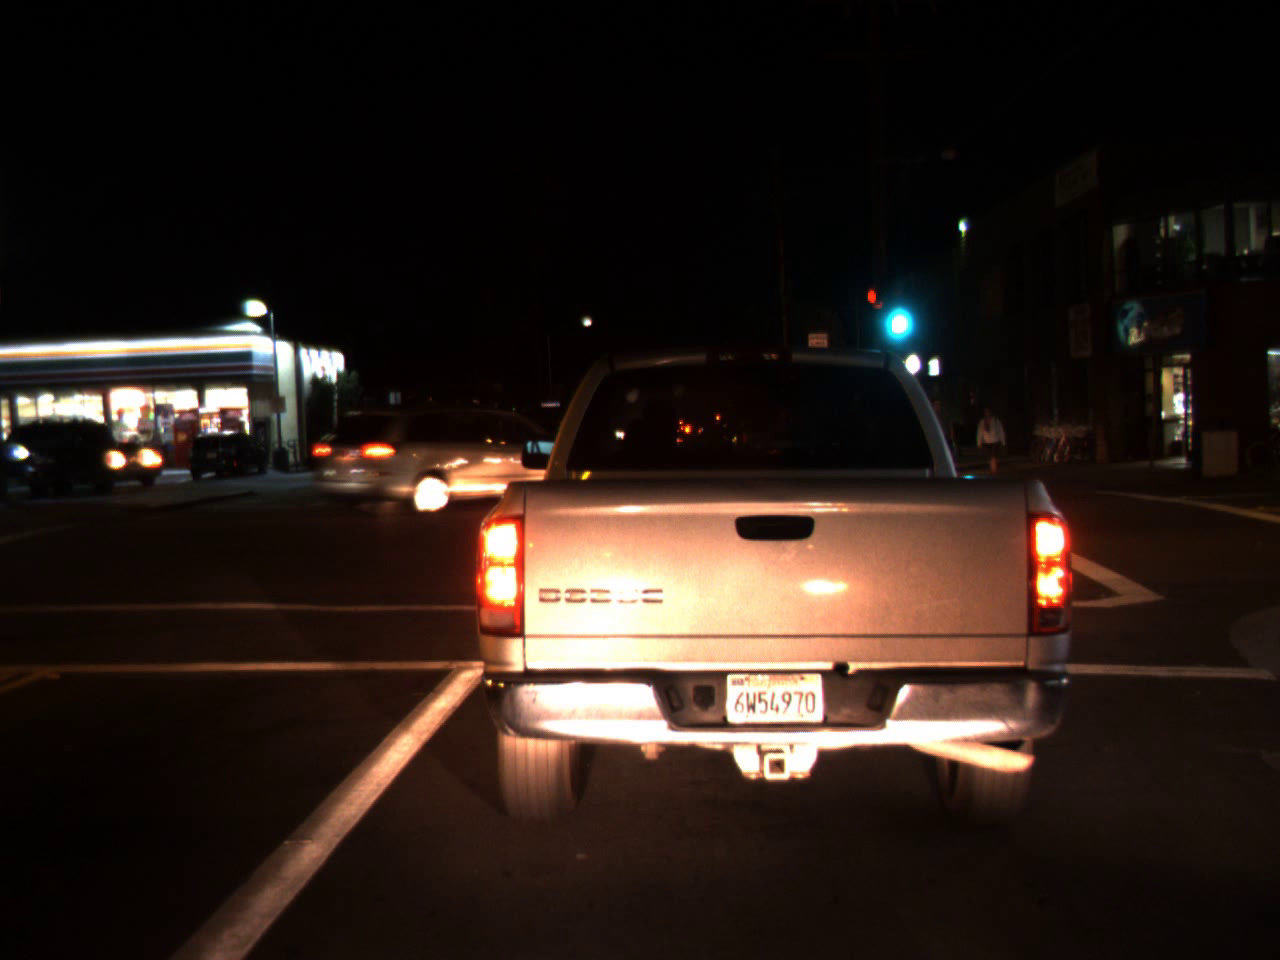go: (877, 276, 914, 348)
